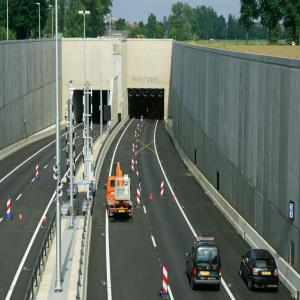Vehicle-registration-plate: (201, 272, 210, 277), (263, 271, 272, 276)
